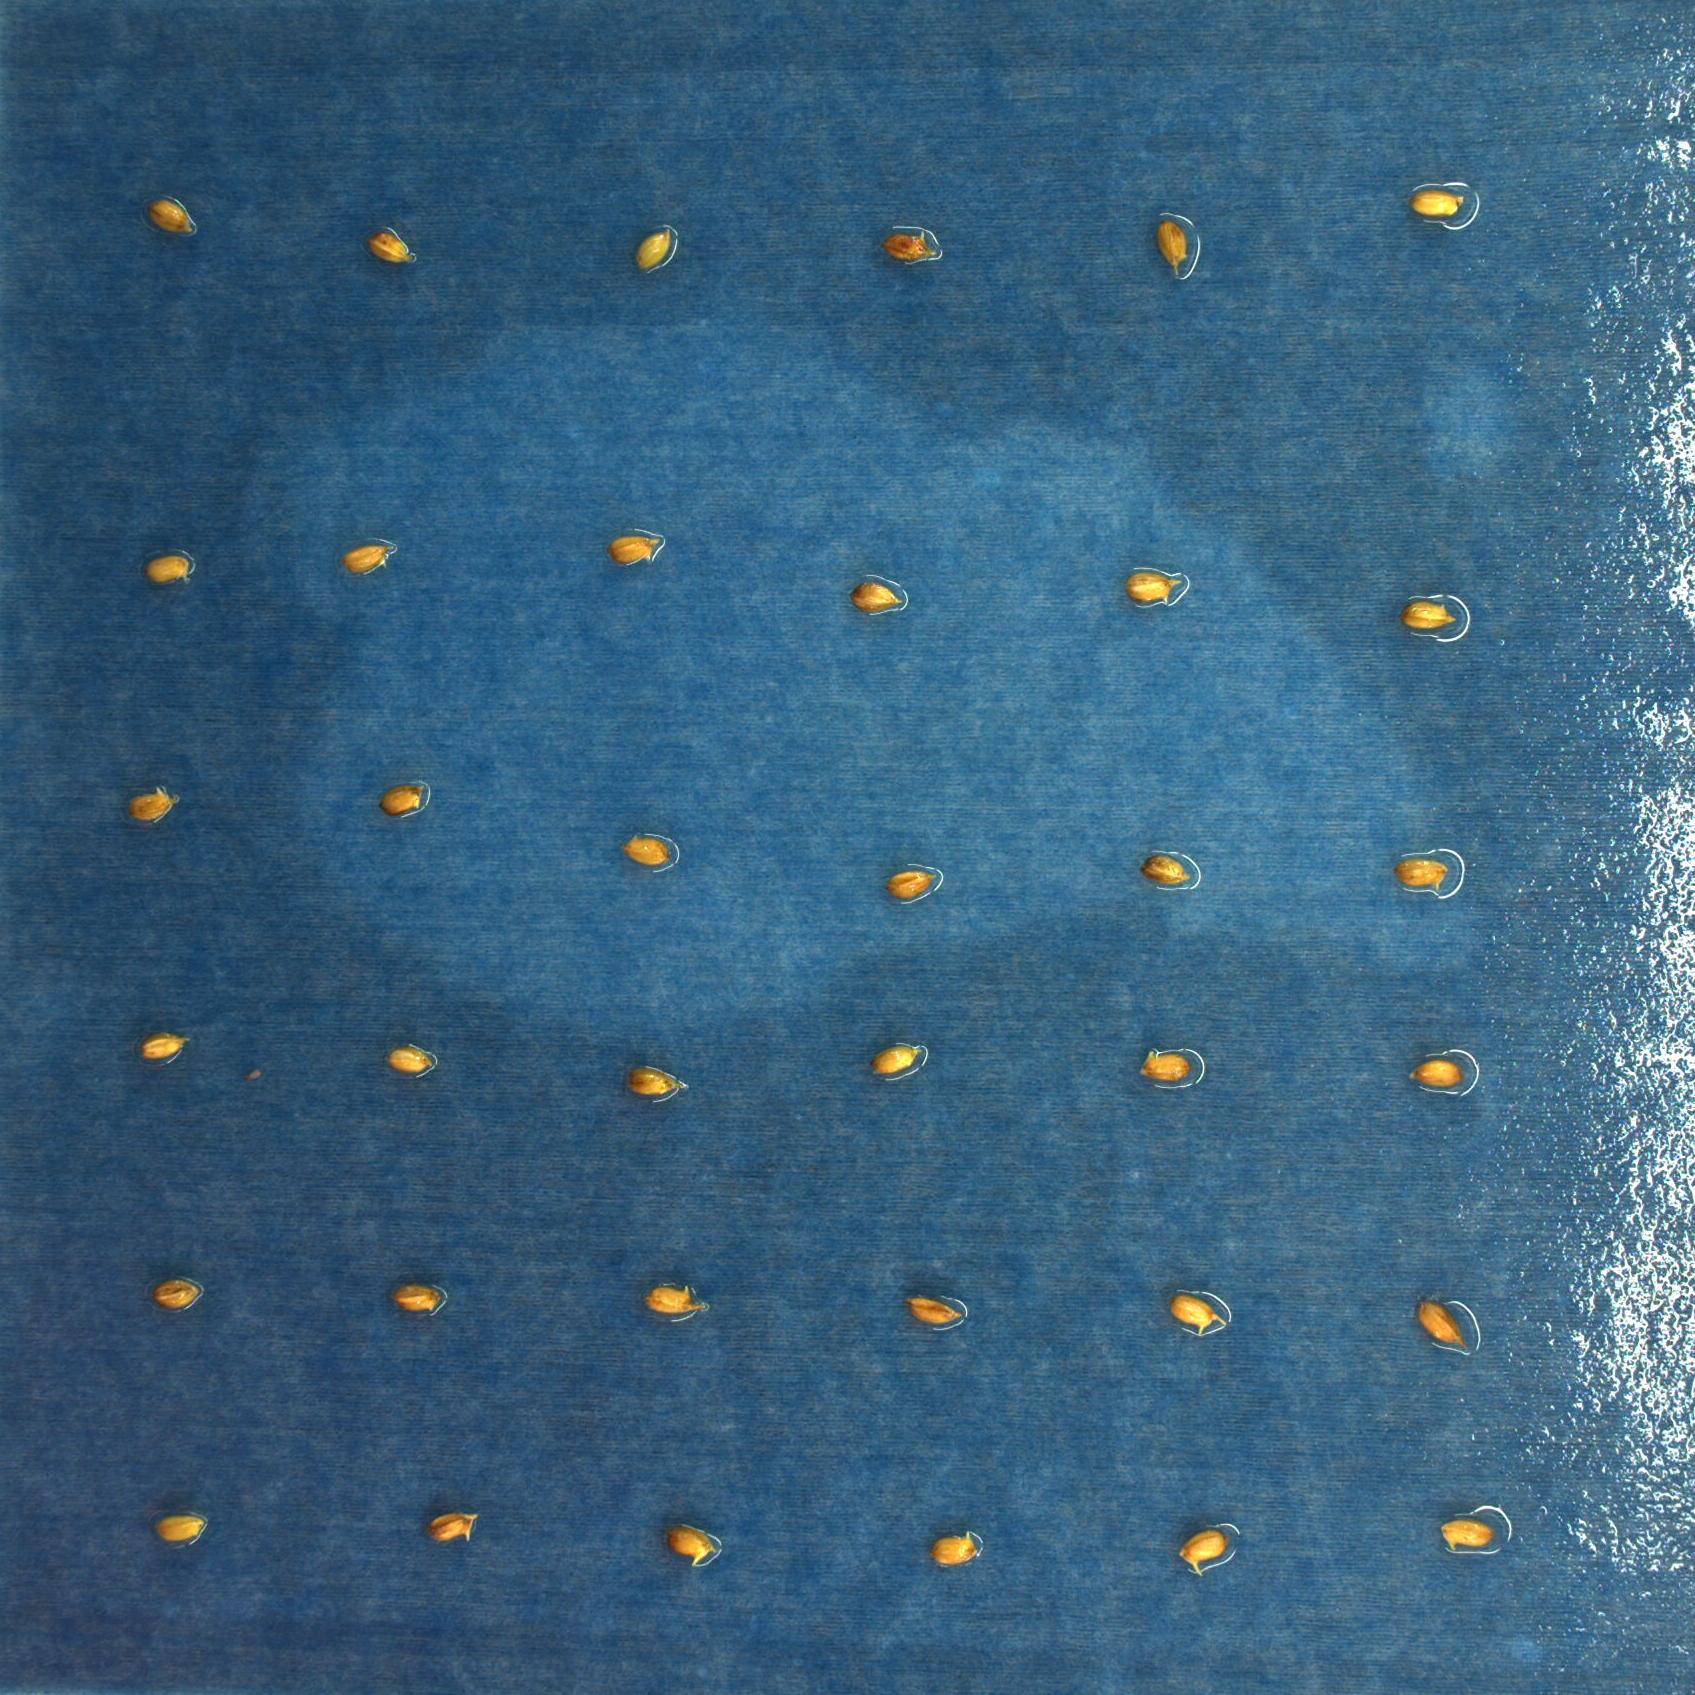not sprout: (1402, 1042, 1485, 1101), (1431, 1512, 1520, 1562), (1125, 560, 1195, 621), (1152, 206, 1201, 290), (1419, 1290, 1471, 1364), (1166, 1290, 1240, 1341), (622, 1055, 691, 1108), (1166, 1524, 1236, 1575), (141, 543, 203, 601), (846, 573, 917, 622), (1133, 844, 1205, 894), (1133, 1040, 1198, 1094), (1399, 590, 1464, 643), (1400, 175, 1475, 220), (615, 827, 686, 874), (640, 1281, 712, 1326), (140, 1507, 220, 1548), (124, 778, 180, 834), (866, 1040, 938, 1083), (626, 220, 681, 275), (141, 182, 202, 231), (605, 529, 674, 573), (376, 775, 435, 823), (667, 1521, 726, 1569), (149, 1276, 213, 1319), (902, 1290, 965, 1332), (931, 1527, 993, 1569), (427, 1507, 486, 1551), (366, 217, 418, 267), (340, 534, 397, 576), (393, 1276, 452, 1315), (879, 861, 938, 900), (1395, 851, 1458, 886), (383, 1040, 432, 1080), (880, 225, 934, 261), (135, 1031, 191, 1063)
